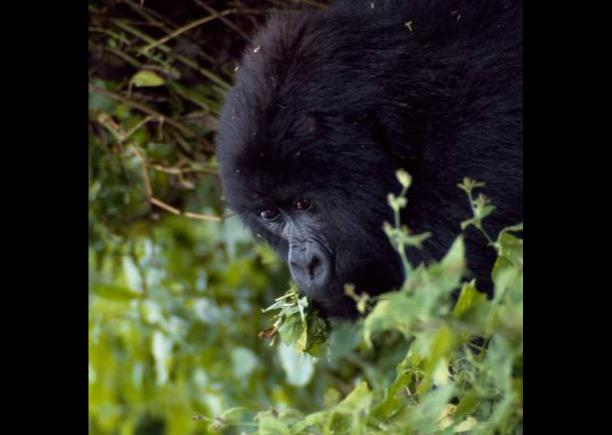goriile_montagne: (205, 0, 523, 314)
